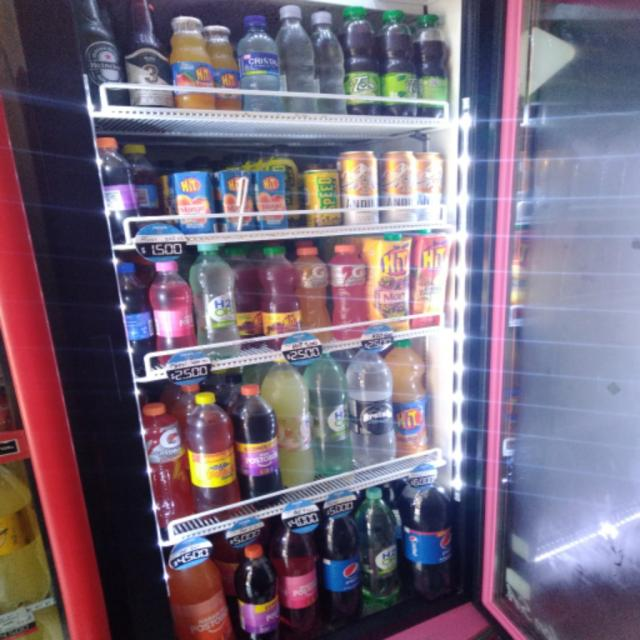Gatorade: (142, 403, 198, 523), (332, 245, 370, 338), (296, 245, 333, 339)
speed: (305, 168, 343, 226)
